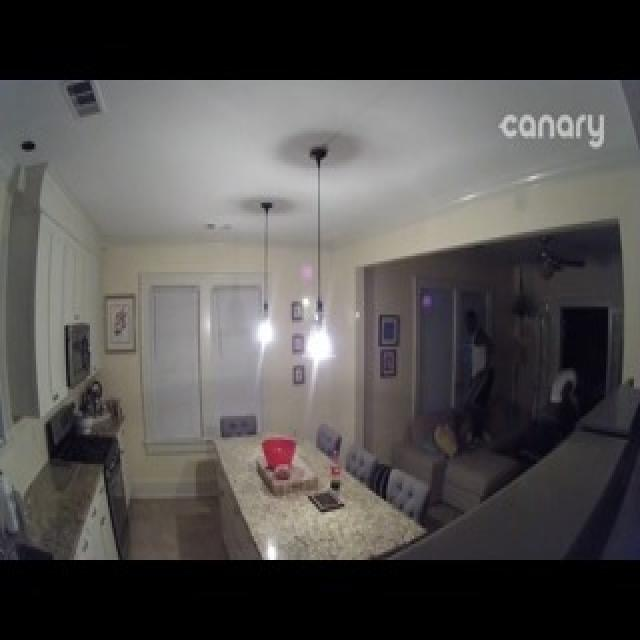thief: (463, 310, 491, 446), (542, 357, 583, 435)
